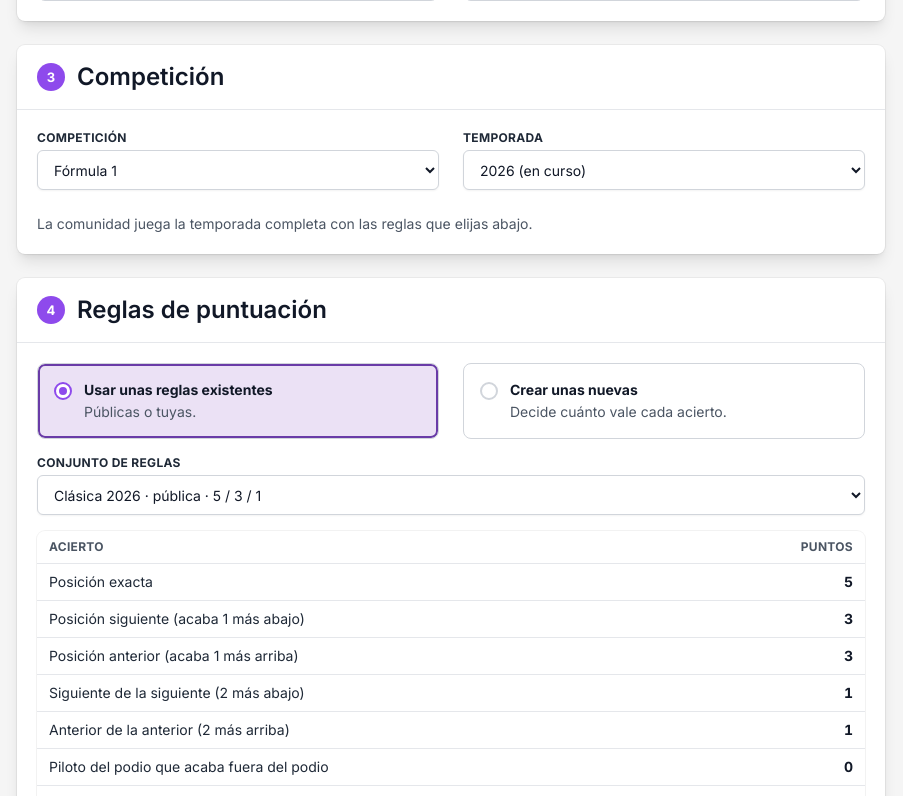
Crear comunidad › the new-rules table recalculates the theoretical maximum
(page scrolled)
Check: the dropdown labelled "Conjunto de reglas" shows "Clásica 2026 · pública · 5 / 3 / 1", box x1=37 y1=475 x2=865 y2=515
Check: the dropdown labelled "Temporada" shows "2026 (en curso)", box x1=463 y1=150 x2=865 y2=190
Click the radio button labelled "Crear unas nuevas Decide cuánto vale cada acierto.": (664, 401) x1=463 y1=363 x2=865 y2=439
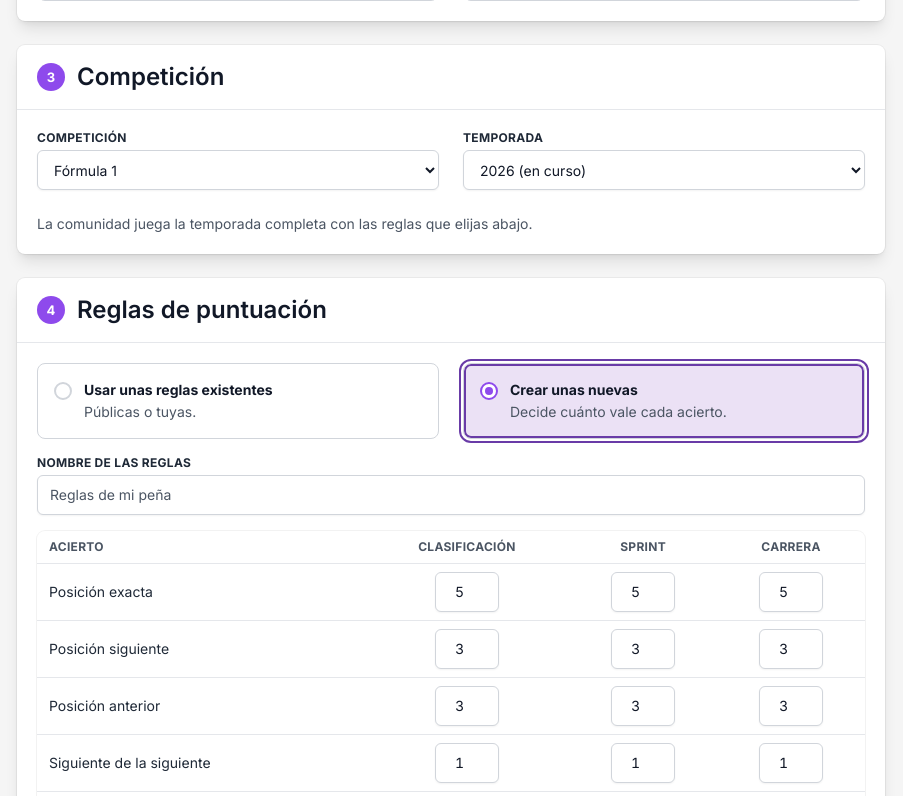
Check: the number of number fields is 24
Replace the text in the number field named "Posición exacta en clasificación" with "6": (467, 592) x1=435 y1=572 x2=499 y2=612
(page scrolled)
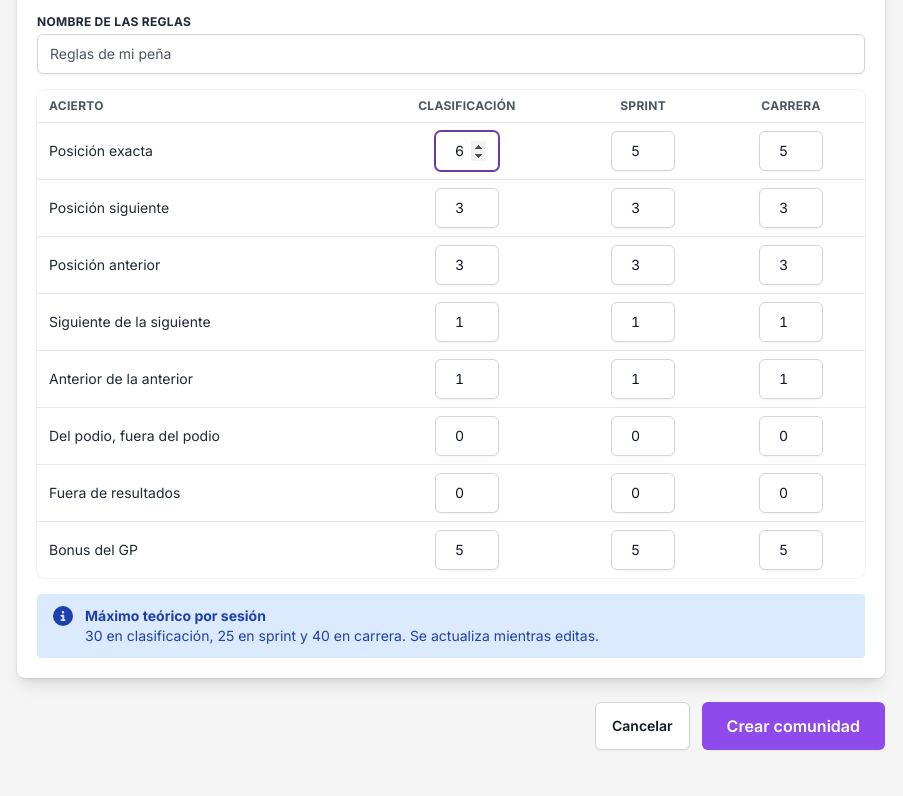
Check: the text "30 en clasificación, 25 en sprint y 40 en carrera" is shown, box x1=85 y1=627 x2=599 y2=644
